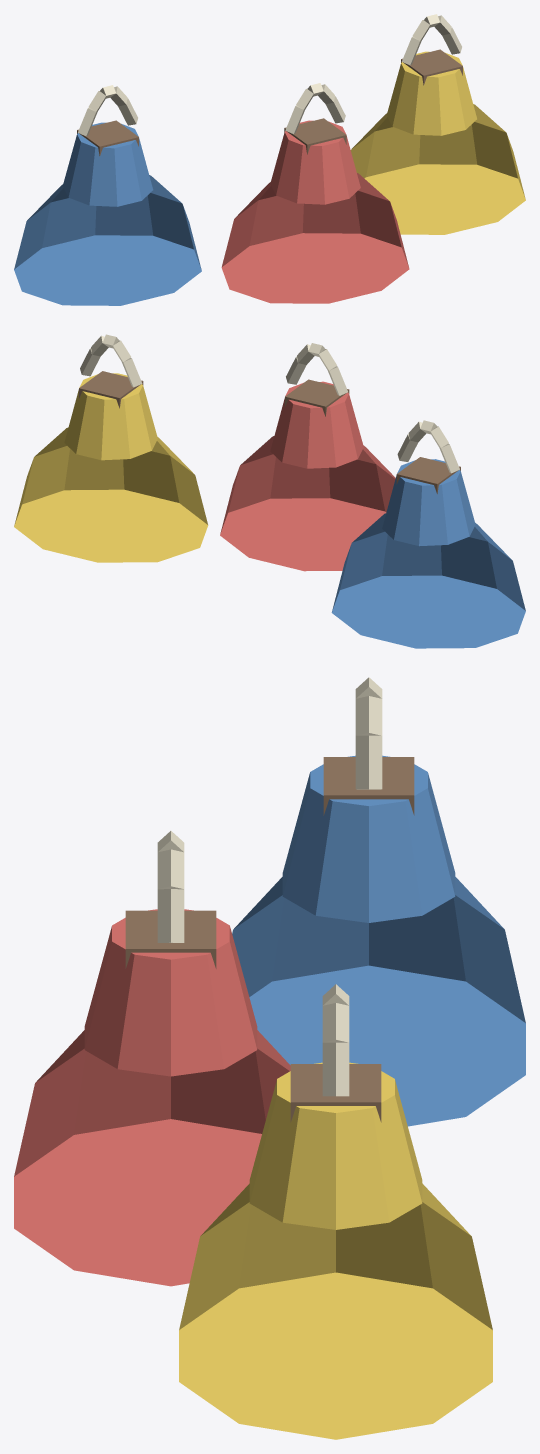
File: hot-air-balloon-festival-balloon-ballast-bag-set-571d5a6b__38486.glb
3 views of the same model, one above another, from view 1: azimuth 30°, elevation 25°; view 2: azimuth 150°, elevation 25°; view 3: azimuth 270°, elevation 25° (orthographic). The views are drawn at different scales.
Visible parts, largest first — view 1: balloon-ballast-bag-set-canvasA, balloon-ballast-bag-set-canvasC, balloon-ballast-bag-set-canvasD, balloon-ballast-bag-set-rope, balloon-ballast-bag-set-leather; view 2: balloon-ballast-bag-set-canvasD, balloon-ballast-bag-set-canvasC, balloon-ballast-bag-set-canvasA, balloon-ballast-bag-set-rope, balloon-ballast-bag-set-leather; view 3: balloon-ballast-bag-set-canvasD, balloon-ballast-bag-set-canvasA, balloon-ballast-bag-set-canvasC, balloon-ballast-bag-set-leather, balloon-ballast-bag-set-rope.
Part boxes in pixels (x1,y1,x2,y2): balloon-ballast-bag-set-canvasA: [221, 120, 409, 303]; balloon-ballast-bag-set-canvasC: [14, 122, 201, 305]; balloon-ballast-bag-set-canvasD: [350, 51, 525, 234]; balloon-ballast-bag-set-rope: [78, 14, 461, 136]; balloon-ballast-bag-set-leather: [77, 49, 462, 156]; balloon-ballast-bag-set-canvasD: [14, 373, 208, 562]; balloon-ballast-bag-set-canvasC: [331, 459, 525, 648]; balloon-ballast-bag-set-canvasA: [220, 381, 395, 571]; balloon-ballast-bag-set-rope: [80, 334, 459, 473]; balloon-ballast-bag-set-leather: [79, 371, 460, 494]; balloon-ballast-bag-set-canvasD: [179, 1062, 492, 1439]; balloon-ballast-bag-set-canvasA: [14, 909, 290, 1286]; balloon-ballast-bag-set-canvasC: [232, 755, 525, 1126]; balloon-ballast-bag-set-leather: [125, 757, 414, 1122]; balloon-ballast-bag-set-rope: [157, 677, 382, 1096].
Size of the model in its own units: 1.36 by 0.4911 by 0.6204.
